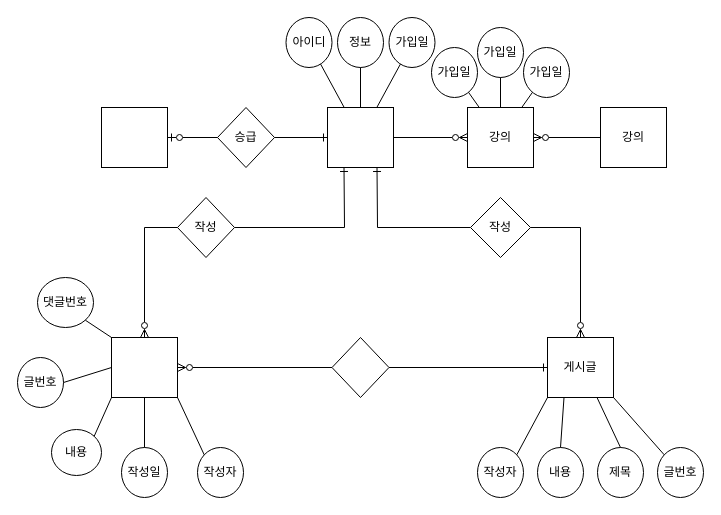
Image size: 721x515. Some labels were removed from this diagram. The shapes that lost their labels are listed below. From the top down, each one's centre as x and y in pixels, then its label:
At point (134, 137): "관리자".
At point (360, 137): "회원".
At point (144, 367): "댓글".
At point (360, 367): "포함".
